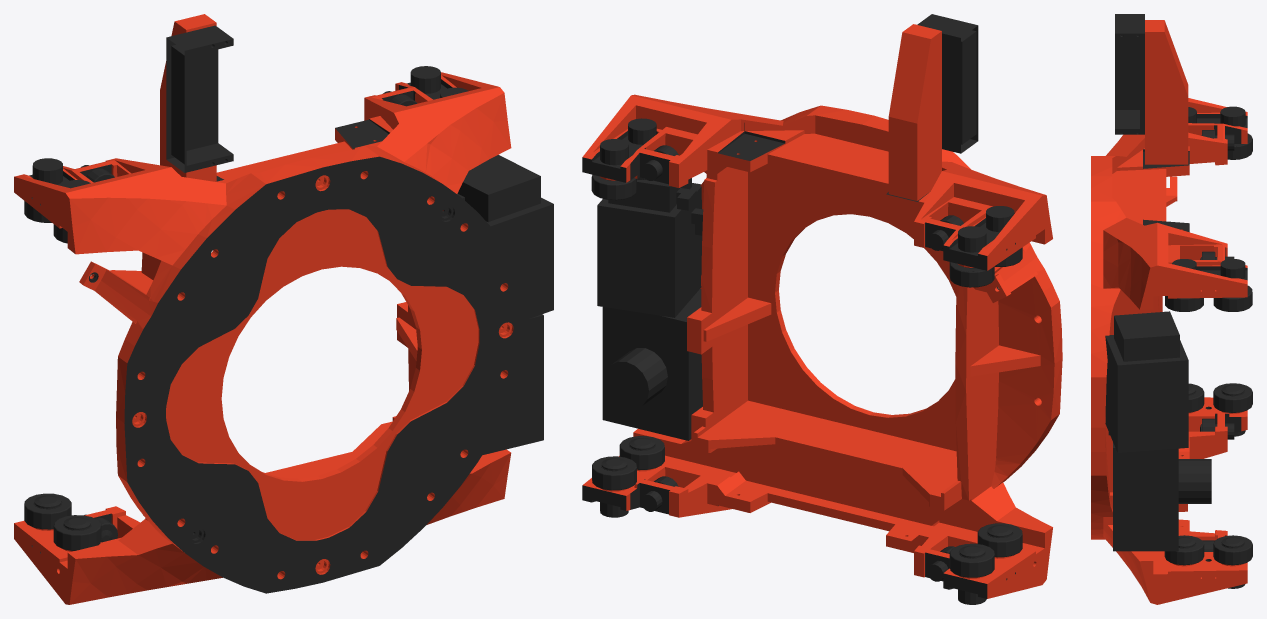
Rendered from LinearMoveCarriage.obj.
The picture shows the model from 3 angles, left to right: view 1: azimuth 30°, elevation 25°; view 2: azimuth 150°, elevation 25°; view 3: azimuth 270°, elevation 25°; orthographic projection. The views are drawn at different scales.
Size of the model in its own units: 1.23 by 1.4 by 0.449.
